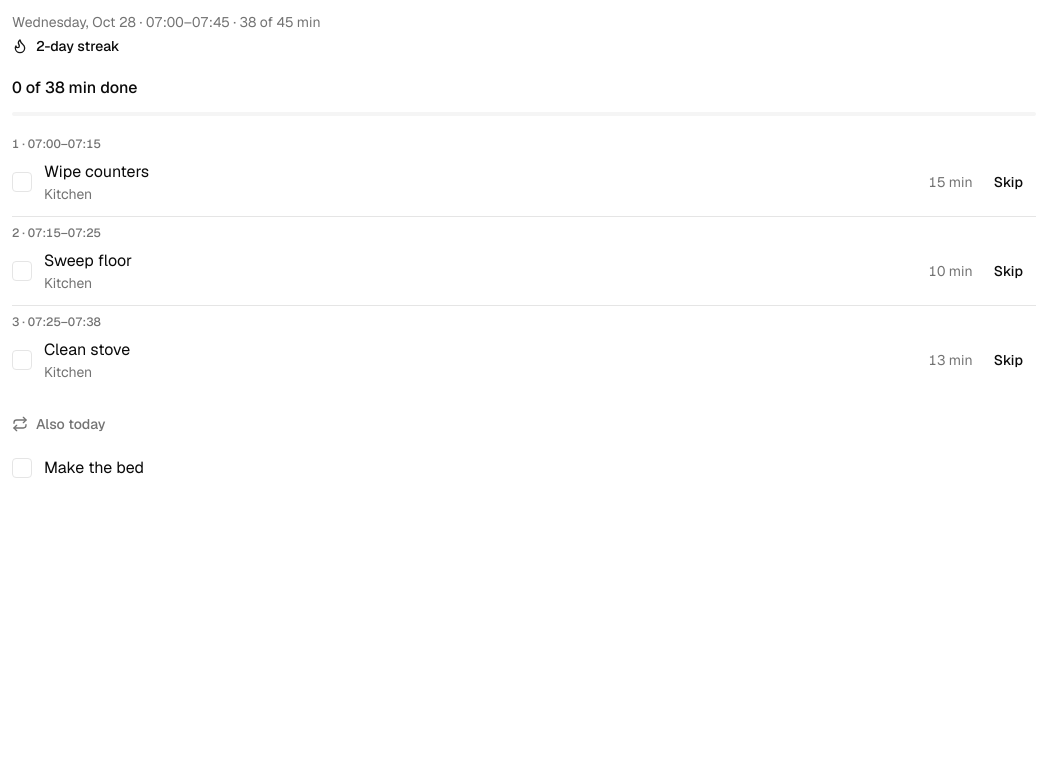
Test: TodaySession › AC7: keeps the change and shows a notice only after repeated failures
What coordinates should you click on to do the following:
click the checkbox named "Wipe counters" next to "Wipe counters"
I would click on:
 (22, 182)
Its box is [12,172,32,192].
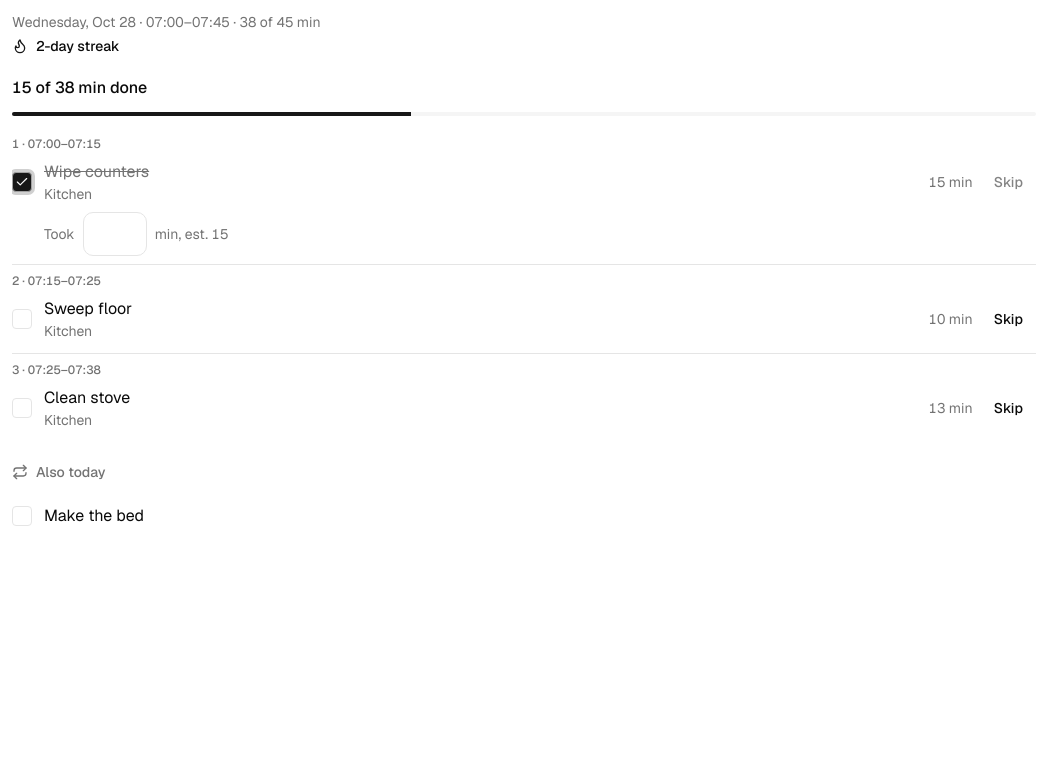
Check: the text "Couldn't save your changes yet" is not shown
What coordinates should you click on to do the following:
click the checkbox named "Sweep floor" next to "Sweep floor"
I would click on:
 (22, 319)
Its box is [12,309,32,329].
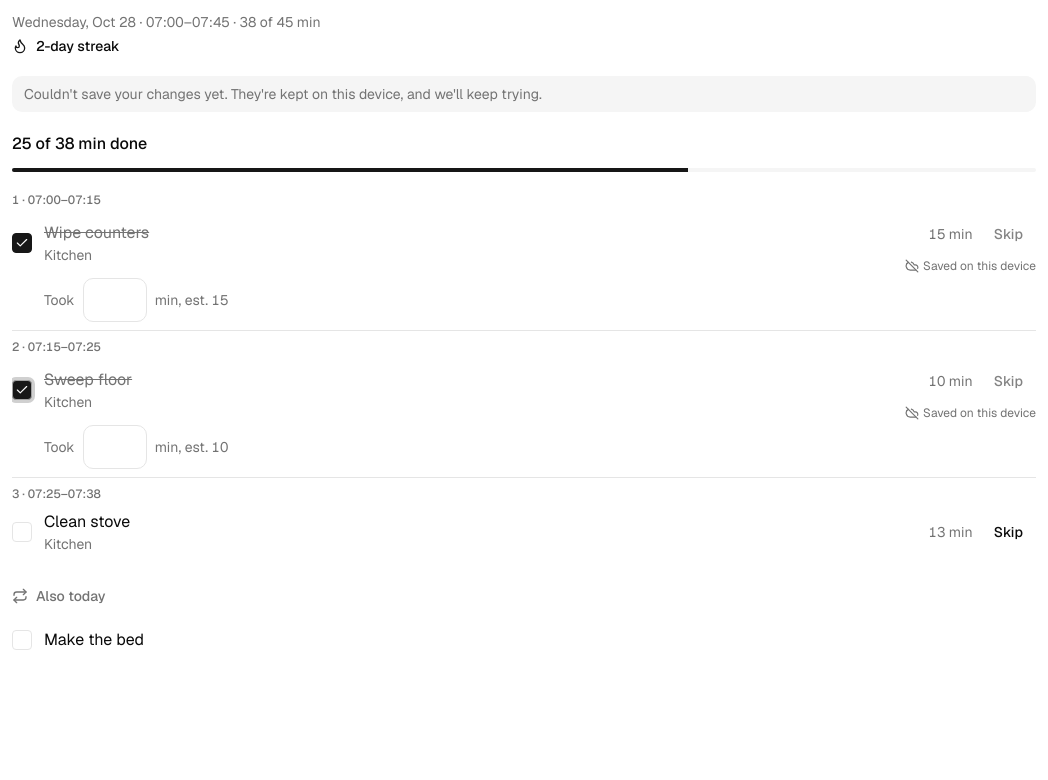
Check: the checkbox named "Wipe counters" next to "Wipe counters" is checked, box [12,233,32,253]
Check: the text "Couldn't save your changes yet" is shown, box [24,85,542,103]
